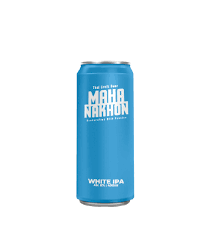can: (74, 56, 141, 211)
